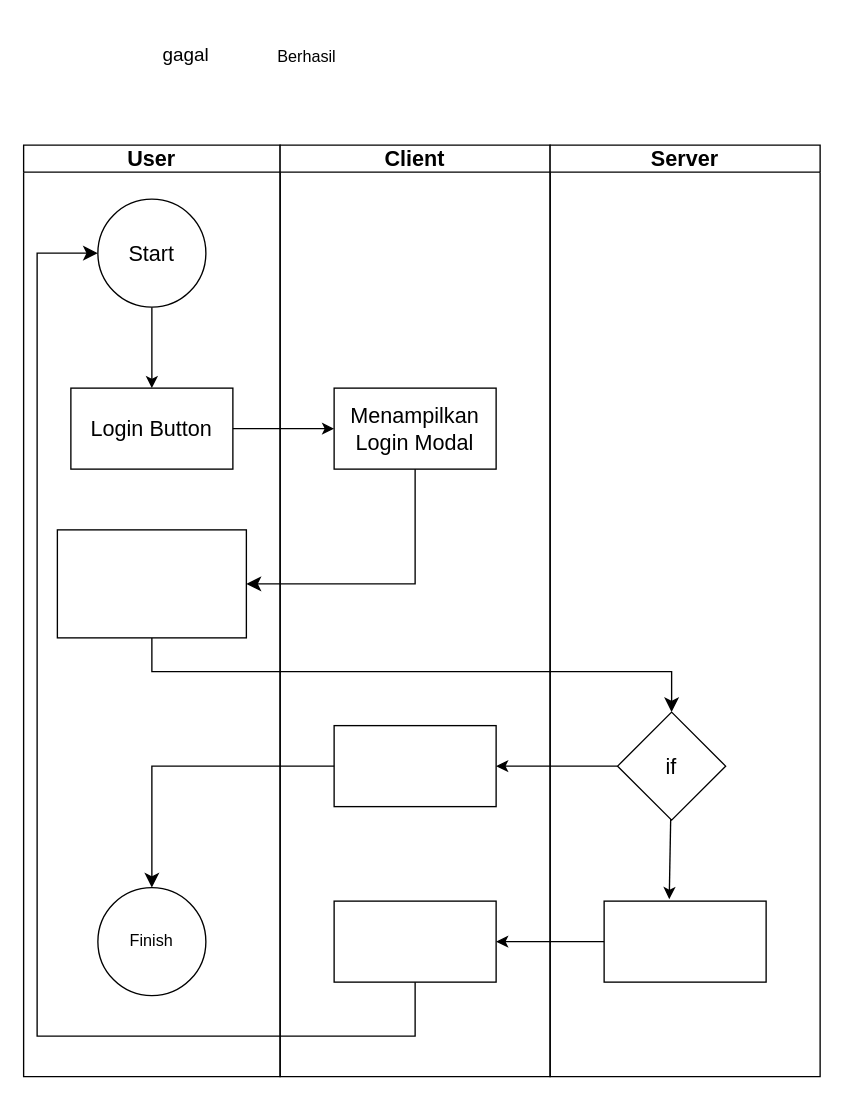
Image size: 844x1100. Some labels were removed from this diagram. The shapes that lost their labels are listed below. From the top down, each one's centre as x and y in pixels, then its label:
point (151, 583): Memasukan Username & Password post data
point (414, 765): Tampilkan User Page
point (414, 941): Tampilkan Pesan error
point (684, 941): Kirim pesan error
